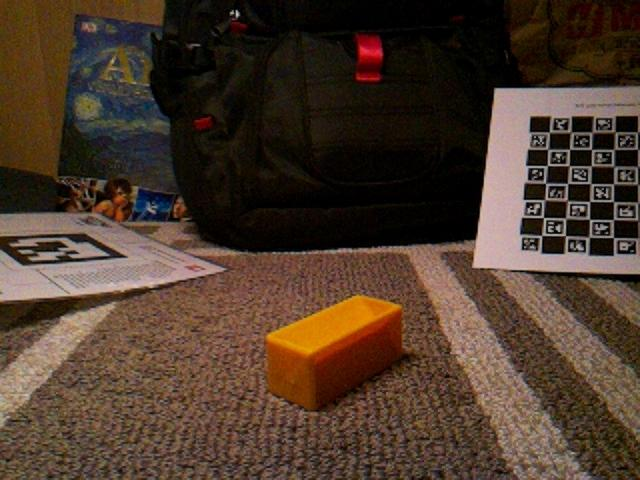yellow: (264, 293, 405, 412)
